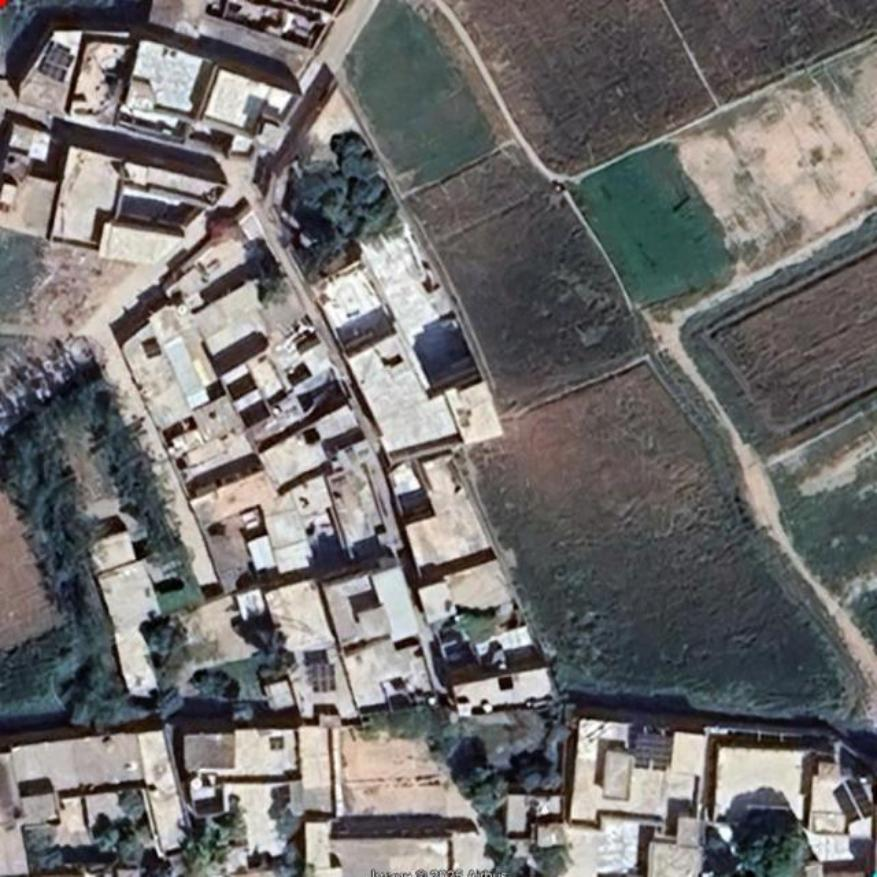Solarpanel: (636, 733, 671, 774), (38, 46, 76, 80), (313, 662, 337, 695)
